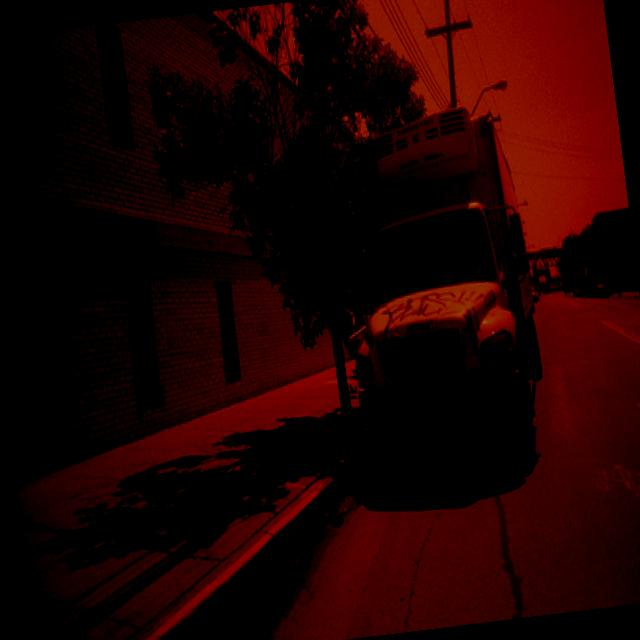Vehicle: (322, 99, 556, 486), (592, 281, 608, 296), (530, 285, 538, 303)
